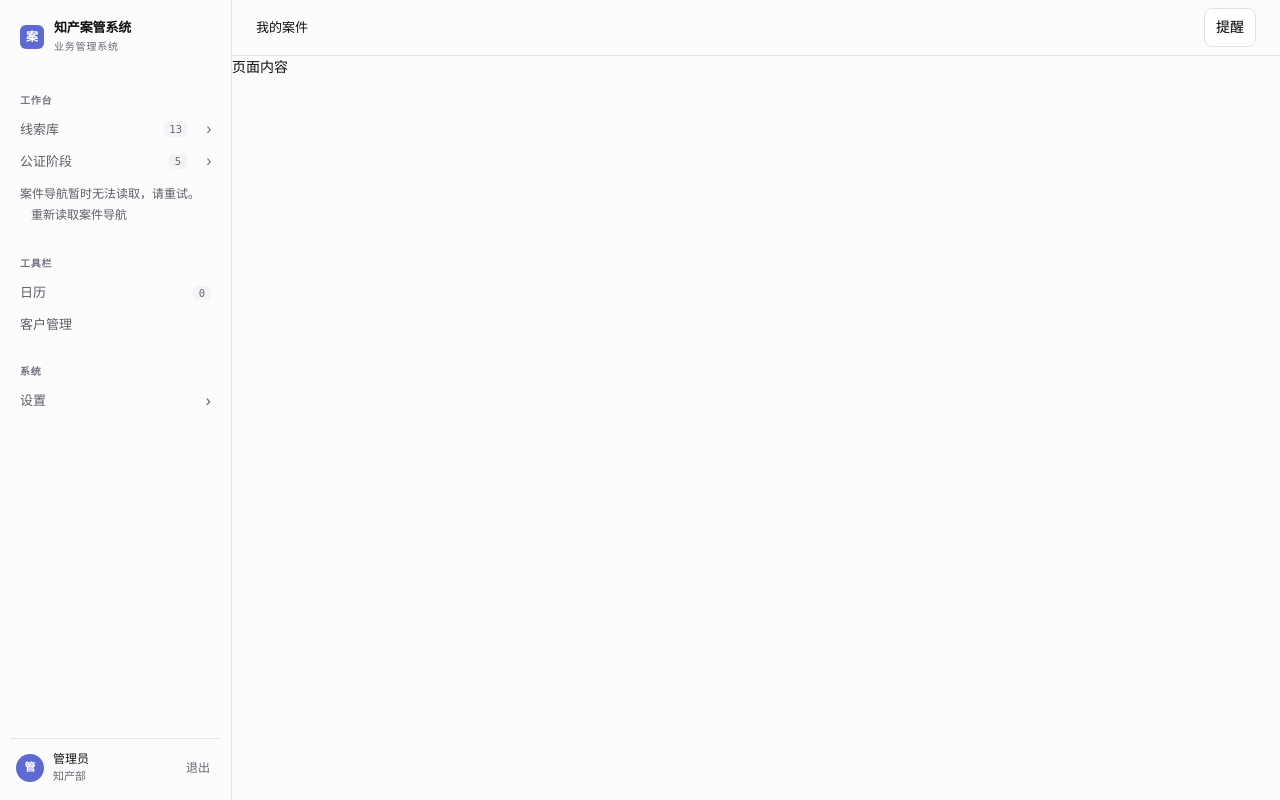
AppShell › disables an in-flight explicit retry without starting another read
Click the button with test id "case-nav-retry". click: [79, 215]
box: [20,203,138,227]
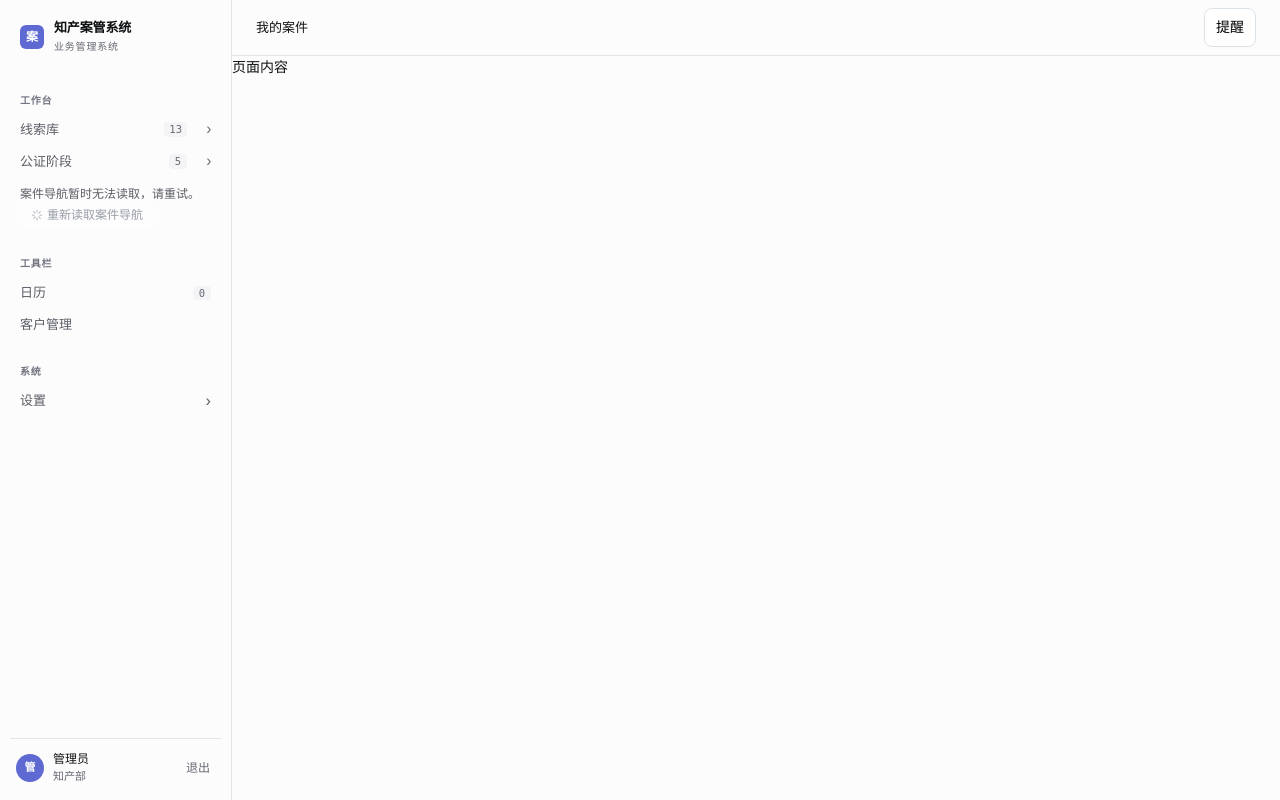
Now the button with test id "case-nav-retry" is disabled
Click the button with test id "case-nav-retry". click: [87, 215]
box: [20,203,154,227]
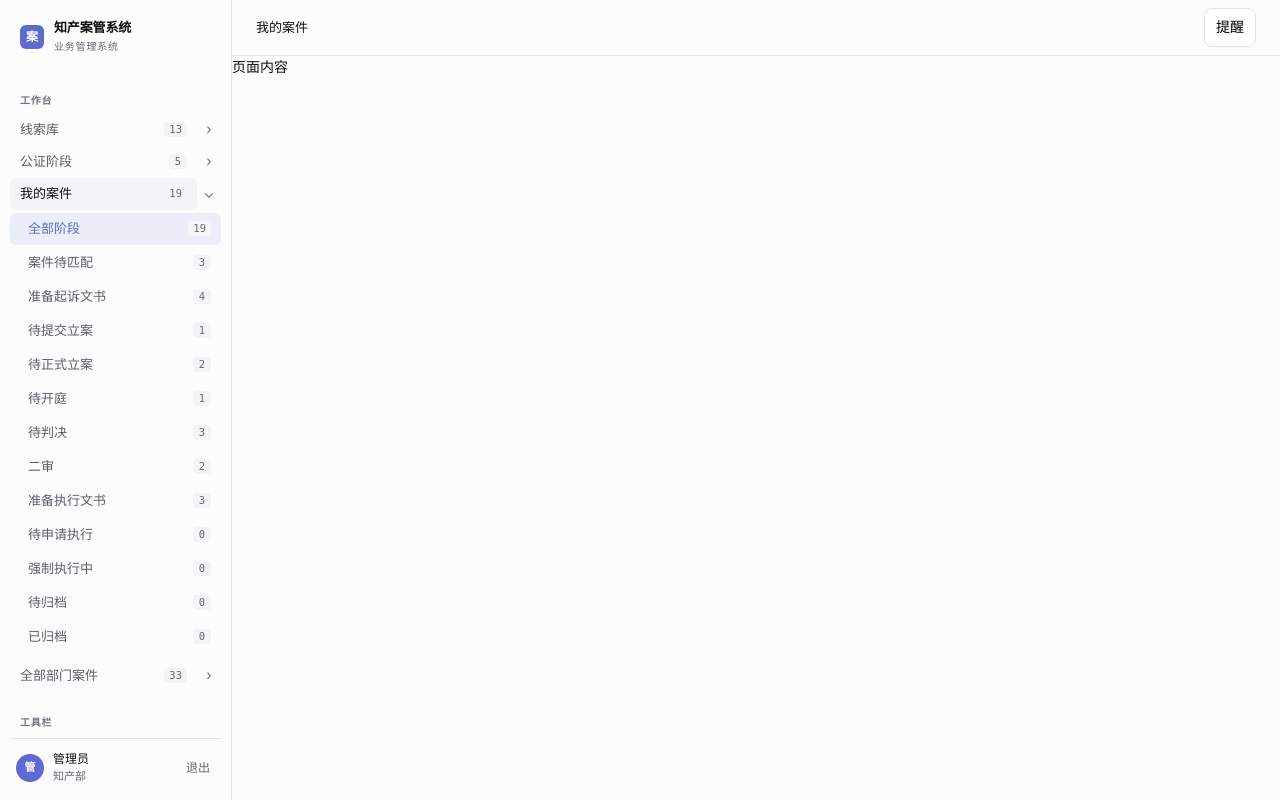
Now the link with test id "case-view-mine" shows "我的案件", box [10,178,197,210]
